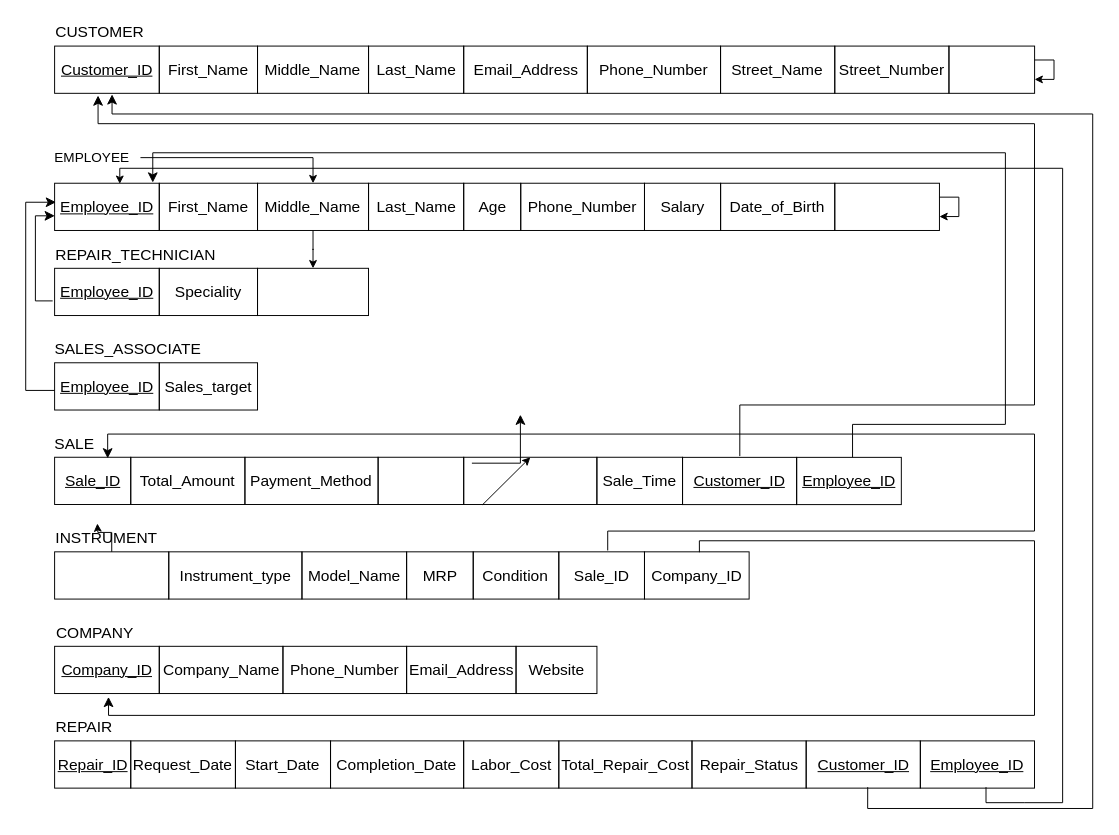
Image size: 1119x835. Some labels were removed from this diagram. Here are the shapes that lost their labels. From the top down, the centre of each, then its label:
At (x=991, y=69): "Zip_Code".
At (x=886, y=206): "Date_of_Hire".
At (x=313, y=291): "Repair_rate".
At (x=420, y=480): "Sale_Date".
At (x=530, y=480): "Discount_Applied".
At (x=111, y=575): "Serial_Number".
